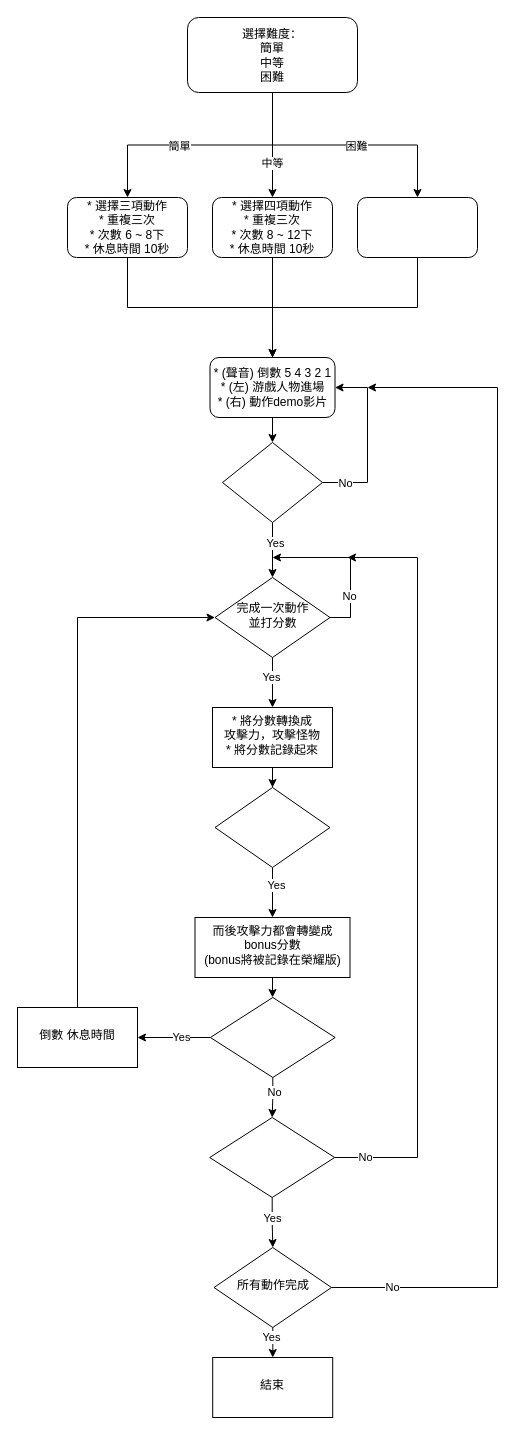
This 523x1435 diagram has some shape labels left out. Each missing label, with the centre of its shape:
"* 選擇五項動作 * 重複三次 * 次數 12 ~ 15下 * 休息時間 5秒" belongs at (417,227).
"一種動作完成" belongs at (272,1157).
"倒數完" belongs at (272,482).
"怪物die" belongs at (272,827).
"重複(休息)" belongs at (272,1037).
